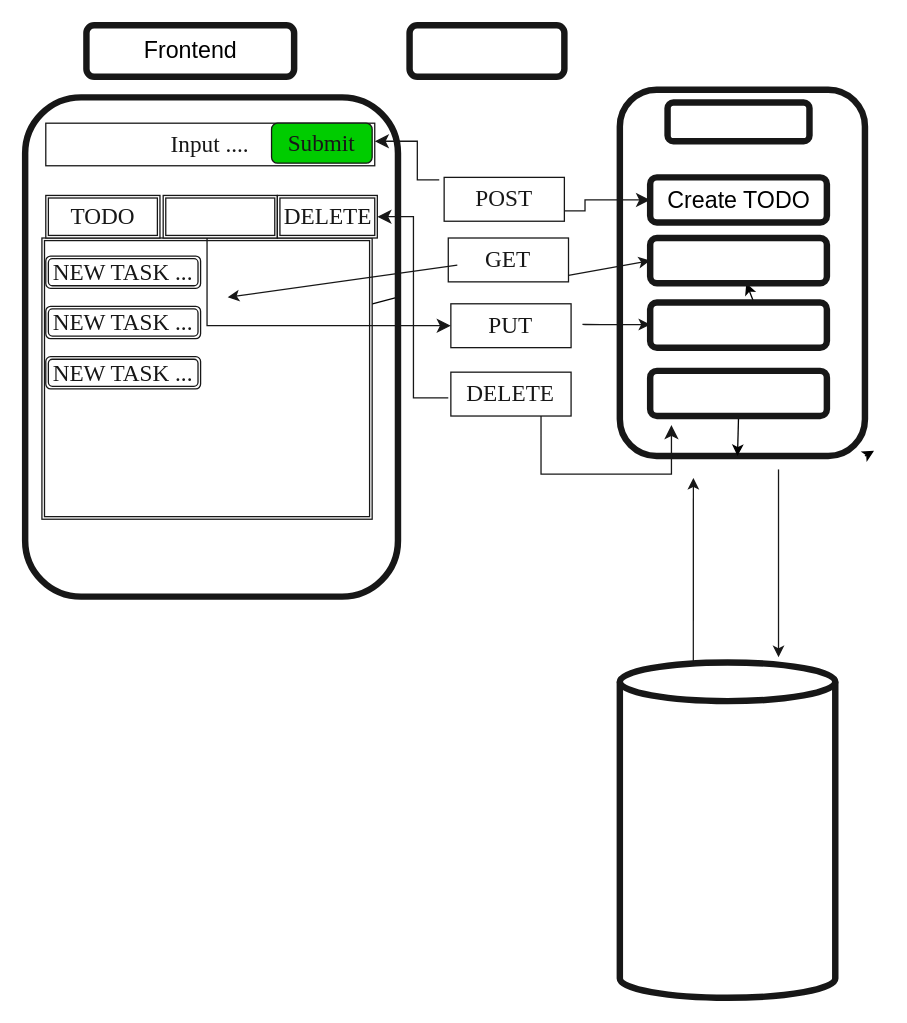
Image size: 907x1023. Some labels were removed from this diagram. The shapes that lost their labels are listed below. From the top down, each one's centre as x and y in pixels, then its label:
the point at 486,50: HTTP
the point at 738,121: SERVER
the point at 219,216: EDIT
the point at 737,260: Read all TODO
the point at 737,324: Update TODO
the point at 737,393: Delete TODO
the point at 727,829: DATABASE Postgres
